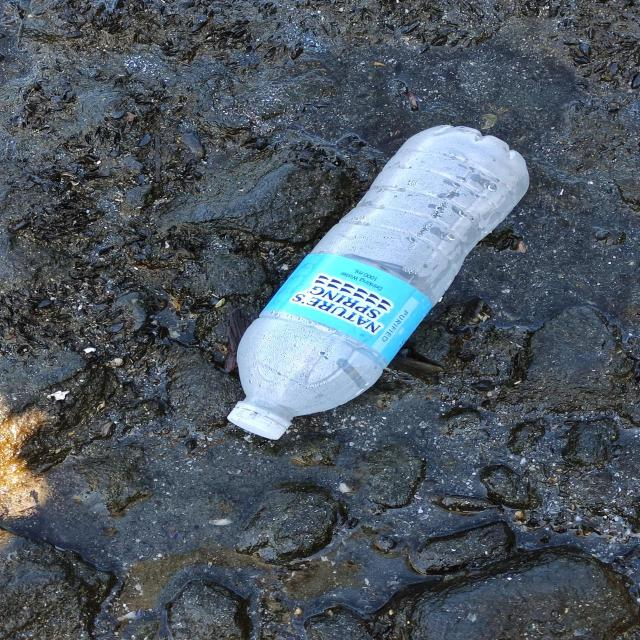litter: (222, 123, 530, 438)
